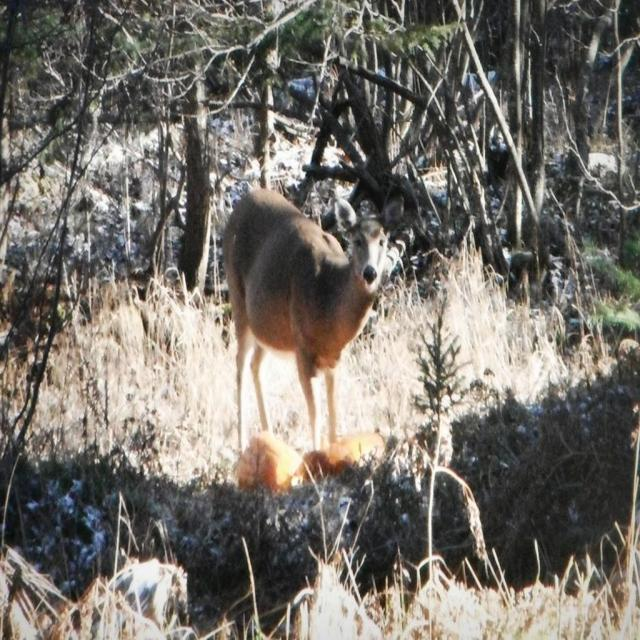Deer: (221, 188, 403, 466)
